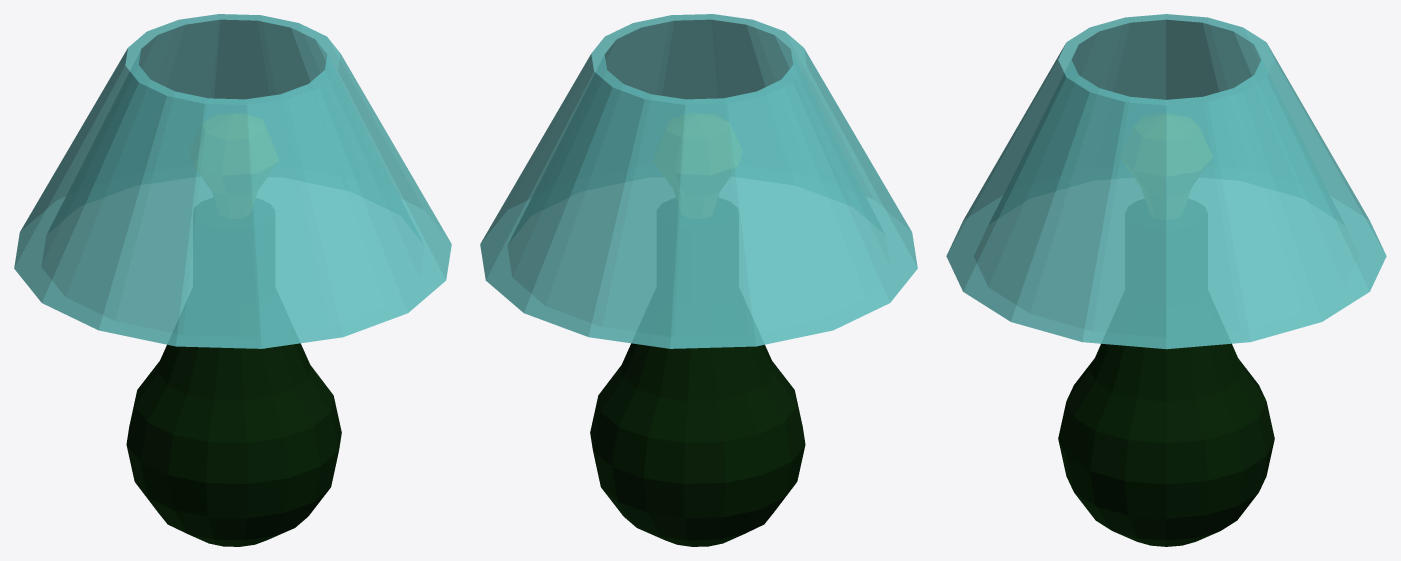
Rendered from Lampada.obj.
3 renders of one model, left to right at view 1: azimuth 30°, elevation 25°; view 2: azimuth 150°, elevation 25°; view 3: azimuth 270°, elevation 25°, orthographic.
Parts seen in each view (by area): view 1: Sphere.002; view 2: Sphere.002; view 3: Sphere.002.
Part boxes in pixels (x1,y1,x2,y2): Sphere.002: [14, 14, 451, 546]; Sphere.002: [480, 14, 917, 546]; Sphere.002: [946, 14, 1386, 546].
Bounding box in the file's own units: 4.06 × 4.85 × 4.06.
